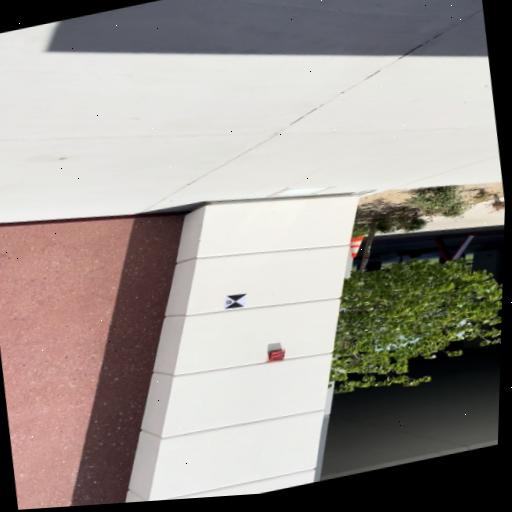target6: (224, 293, 247, 309)
